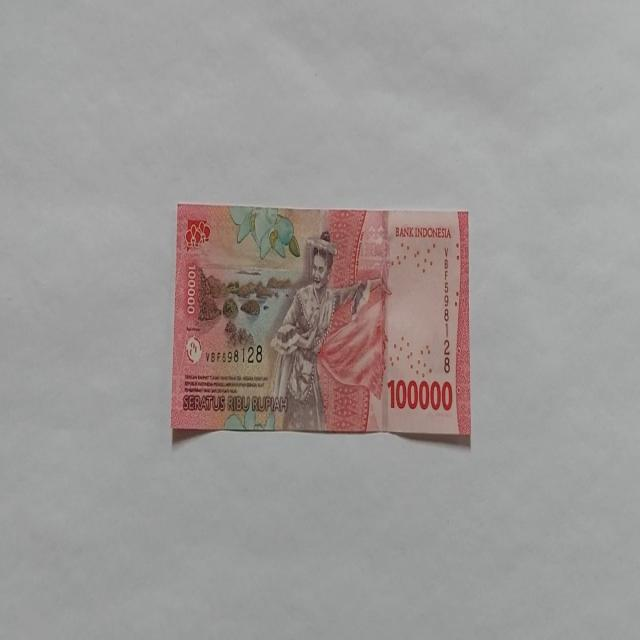seratus ribu rupiah: (170, 204, 471, 441), (268, 229, 372, 431)
